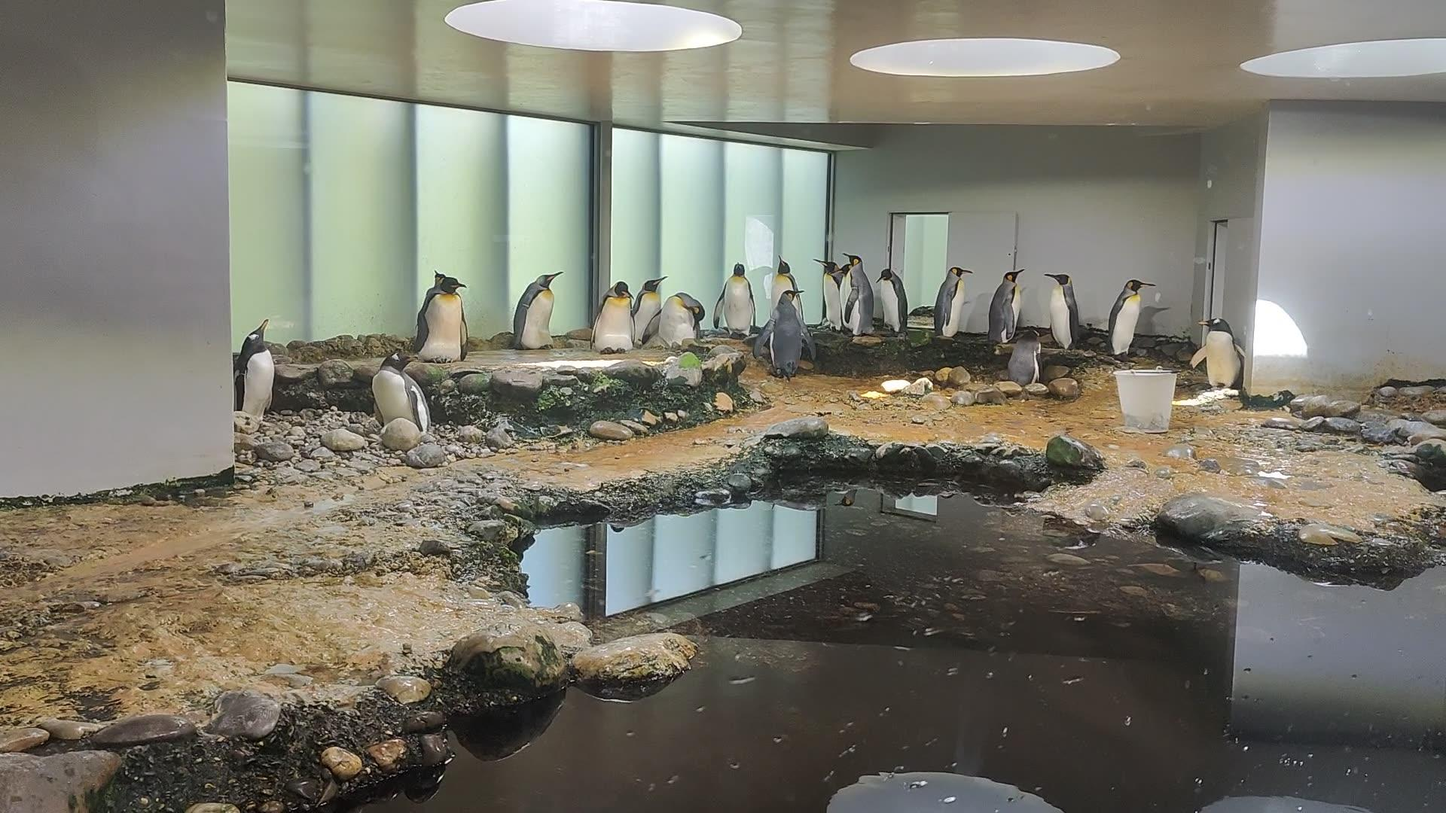apple: (752, 290, 816, 381), (372, 352, 431, 434), (416, 277, 468, 363), (508, 272, 563, 350), (1106, 279, 1157, 362), (234, 319, 274, 420), (1189, 318, 1245, 388), (642, 292, 705, 347), (590, 281, 635, 355), (713, 262, 756, 339), (988, 268, 1025, 344), (841, 253, 874, 338), (934, 267, 973, 337), (1043, 274, 1078, 350), (632, 276, 669, 345), (770, 255, 804, 321), (813, 259, 842, 331), (876, 269, 908, 332), (1008, 330, 1042, 387), (831, 264, 853, 335)
